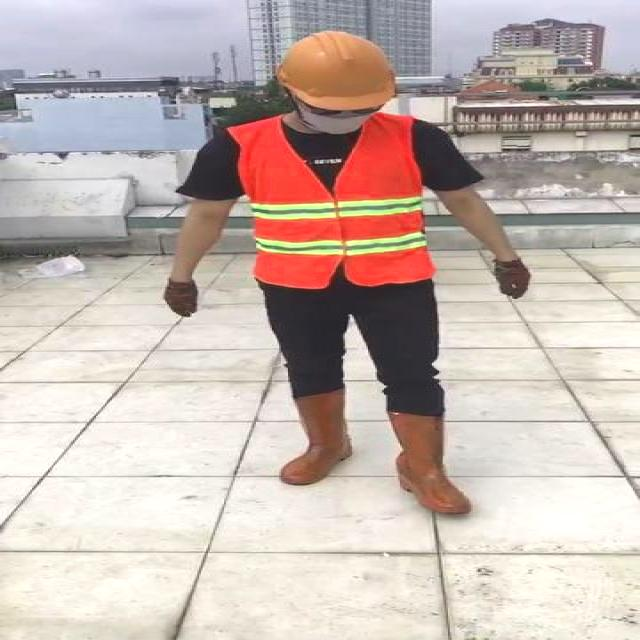boots: (390, 412, 468, 514), (279, 391, 350, 486)
face_mask: (290, 95, 378, 135)
hand_glove: (492, 258, 530, 300), (164, 280, 199, 321)
head_helmet: (268, 30, 404, 115)
person: (146, 25, 546, 529)
vest: (228, 115, 432, 285)
